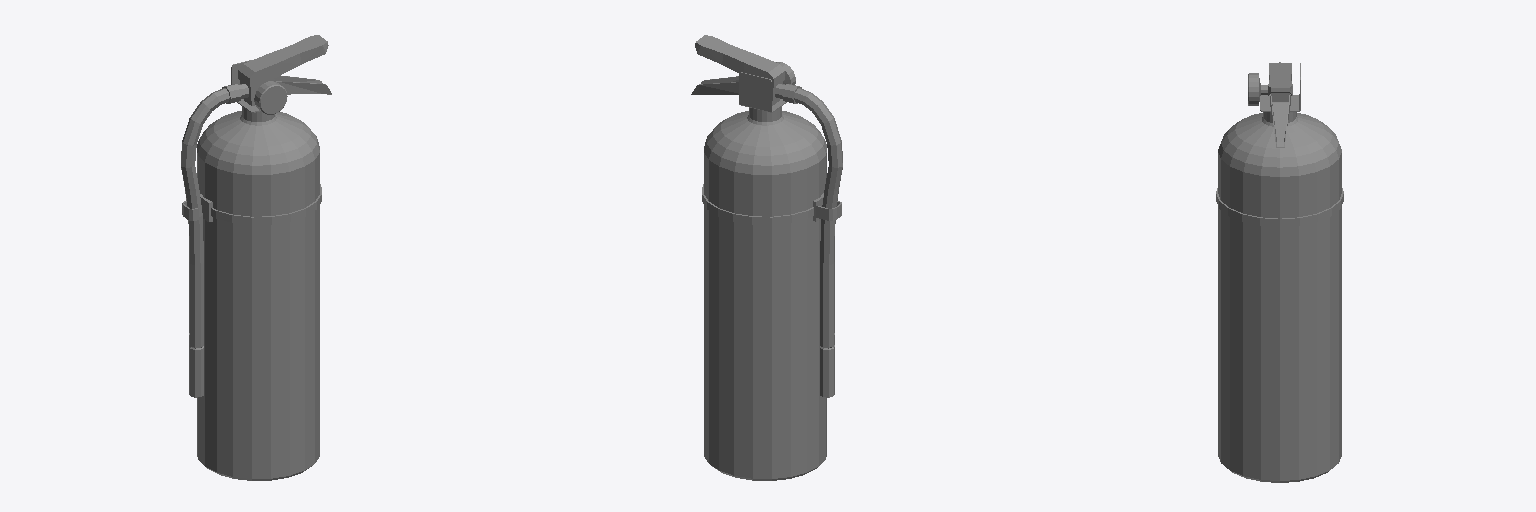
The model's file is fire.obj.
3 renders of one model, left to right at view 1: azimuth 30°, elevation 25°; view 2: azimuth 150°, elevation 25°; view 3: azimuth 270°, elevation 25°, orthographic.
Parts seen in each view (by area): view 1: Object001_Mesh; view 2: Object001_Mesh; view 3: Object001_Mesh.
Boxes of the visible parts, box(x1,y1,x2,y2) form: Object001_Mesh: box(181, 35, 331, 480); Object001_Mesh: box(691, 35, 842, 480); Object001_Mesh: box(1216, 62, 1343, 482).
Bounding box in the file's own units: 9.24 × 23.79 × 6.87.